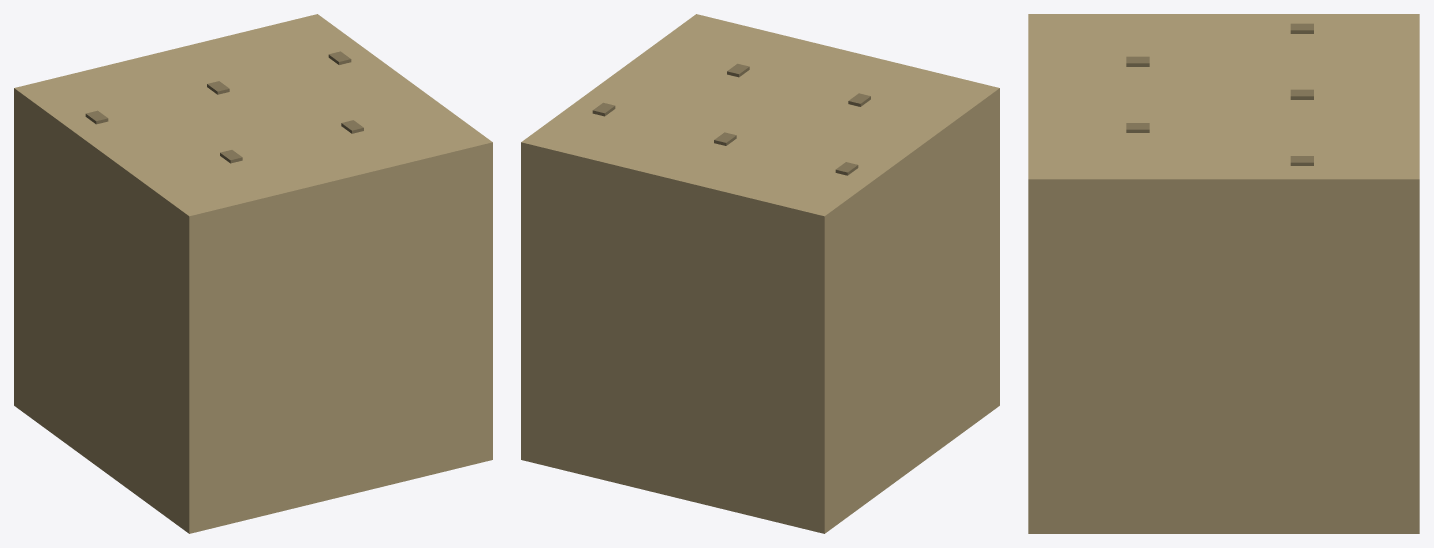
Rendered from 75_banana_palm.glb.
The picture shows the model from 3 angles, left to right: view 1: azimuth 30°, elevation 25°; view 2: azimuth 150°, elevation 25°; view 3: azimuth 270°, elevation 25°; orthographic projection. The views are drawn at different scales.
Parts seen in each view (by area): view 1: Core; view 2: Core; view 3: Core.
Boxes of the visible parts, left/top/right/bottom form: Core: left=14, top=14, right=492, bottom=533; Core: left=521, top=14, right=999, bottom=533; Core: left=1028, top=14, right=1419, bottom=533.
Bounding box in the file's own units: 1 × 1.02 × 1.
